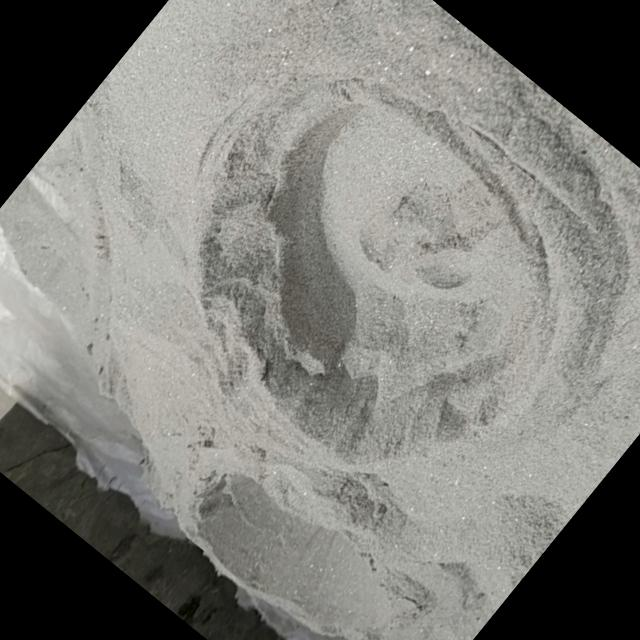C20: (194, 80, 589, 470), (193, 473, 379, 630)
